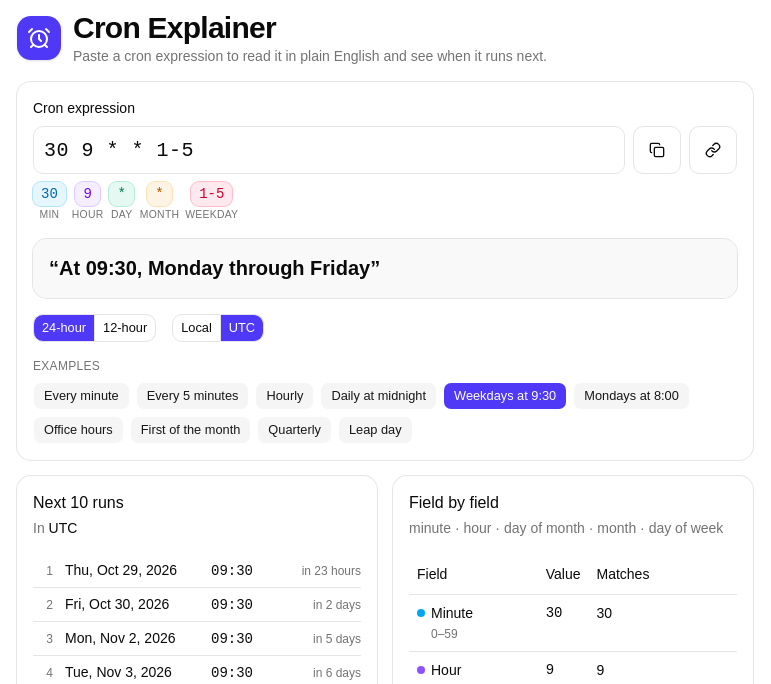
Test: copying and sharing › says so when copying fails
What coordinates should you click on to do the following:
click the button named "Copy link"
I would click on:
 (713, 150)
Its box is [689,126,737,174].
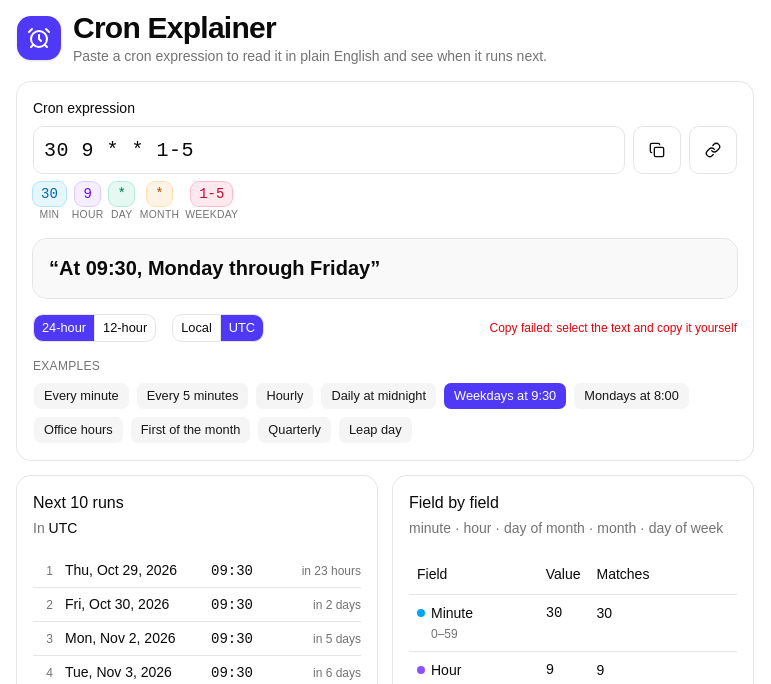
Now the message shows "Copy failed", box [490,321,737,335]
